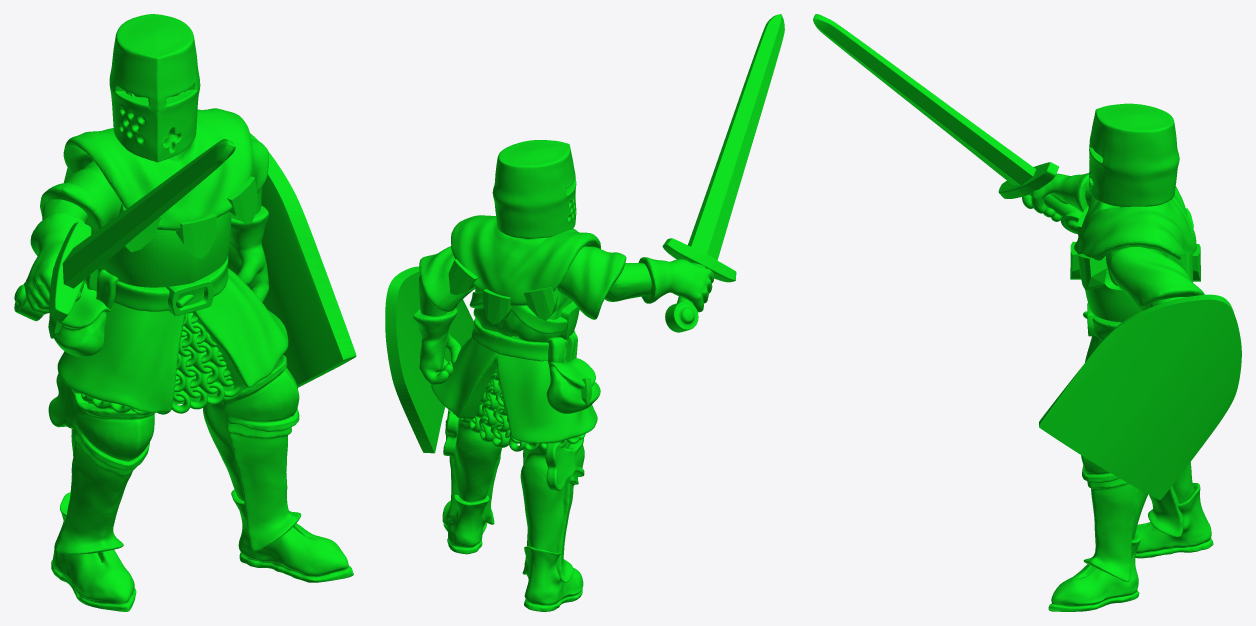
Rendered from caballeroCorrecto.glb.
The picture shows the model from 3 angles, left to right: view 1: azimuth 30°, elevation 25°; view 2: azimuth 150°, elevation 25°; view 3: azimuth 270°, elevation 25°; orthographic projection. The views are drawn at different scales.
Parts seen in each view (by area): view 1: shield; view 2: shield; view 3: shield.
Part boxes in pixels (left/top/right/bottom): shield: left=14, top=14, right=356, bottom=611; shield: left=385, top=14, right=784, bottom=611; shield: left=813, top=14, right=1241, bottom=611.
Bounding box in the file's own units: 21.05 × 37.79 × 29.03.
